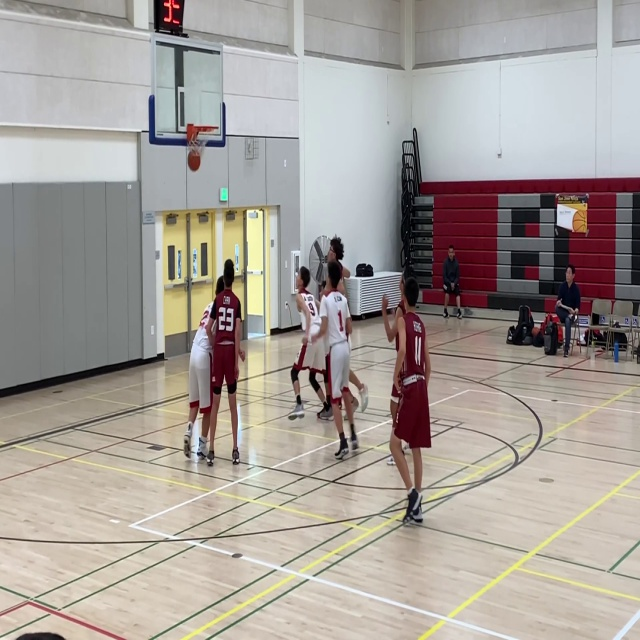Basketball: (187, 150, 201, 171)
